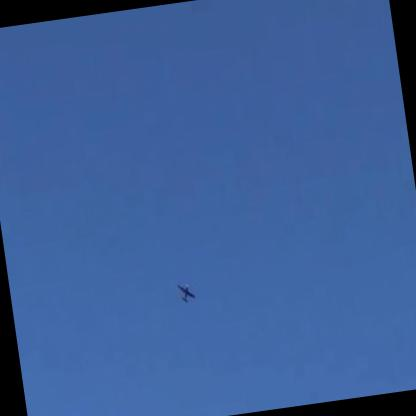plane: (176, 281, 197, 303)
